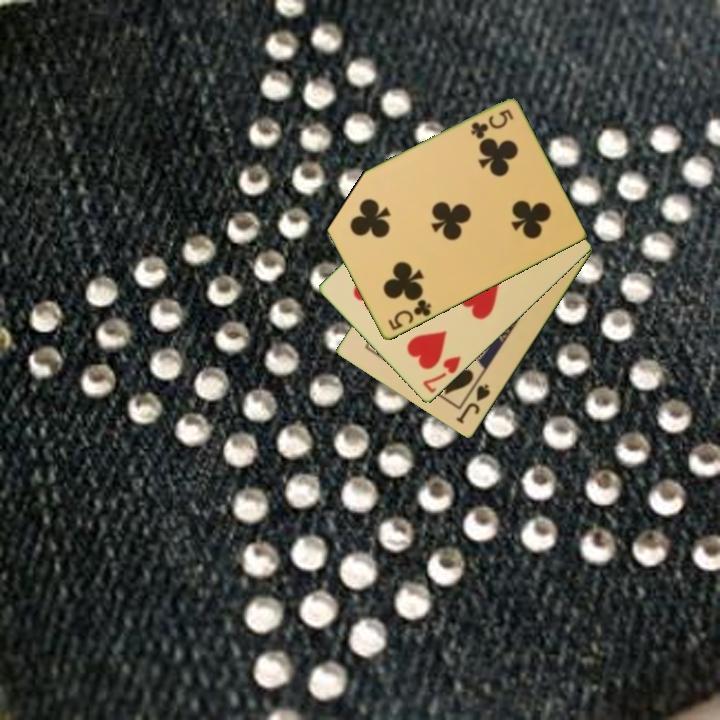5c: (384, 296, 434, 334), (467, 106, 517, 142)
7h: (419, 353, 464, 397)
Js: (452, 381, 493, 427)
